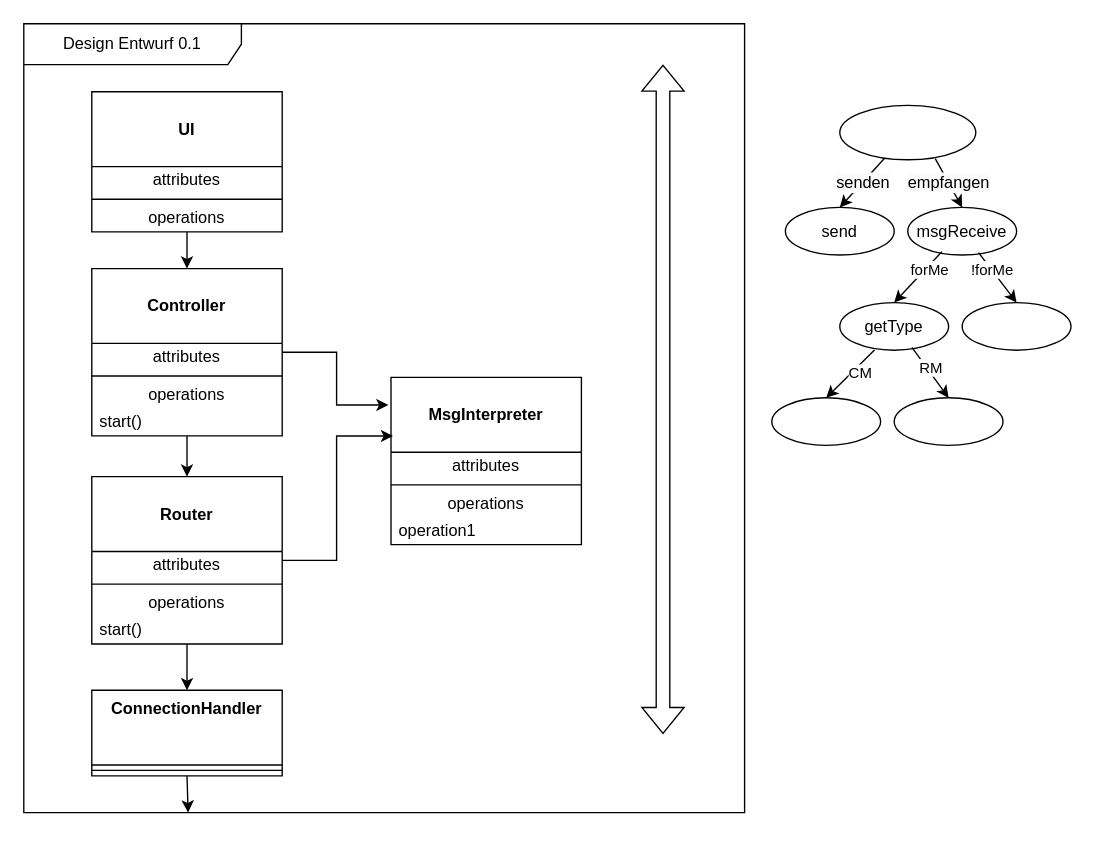
Some shapes in this 1095 by 847 pixel diagram are drawn without their labels. Here are the shapes that lost their labels. From the top down, the centre of each, then its label:
At (x=907, y=132): "while (!beenden)".
At (x=1016, y=325): "forward".
At (x=825, y=420): "showMsg".
At (x=948, y=420): "updateTable".
